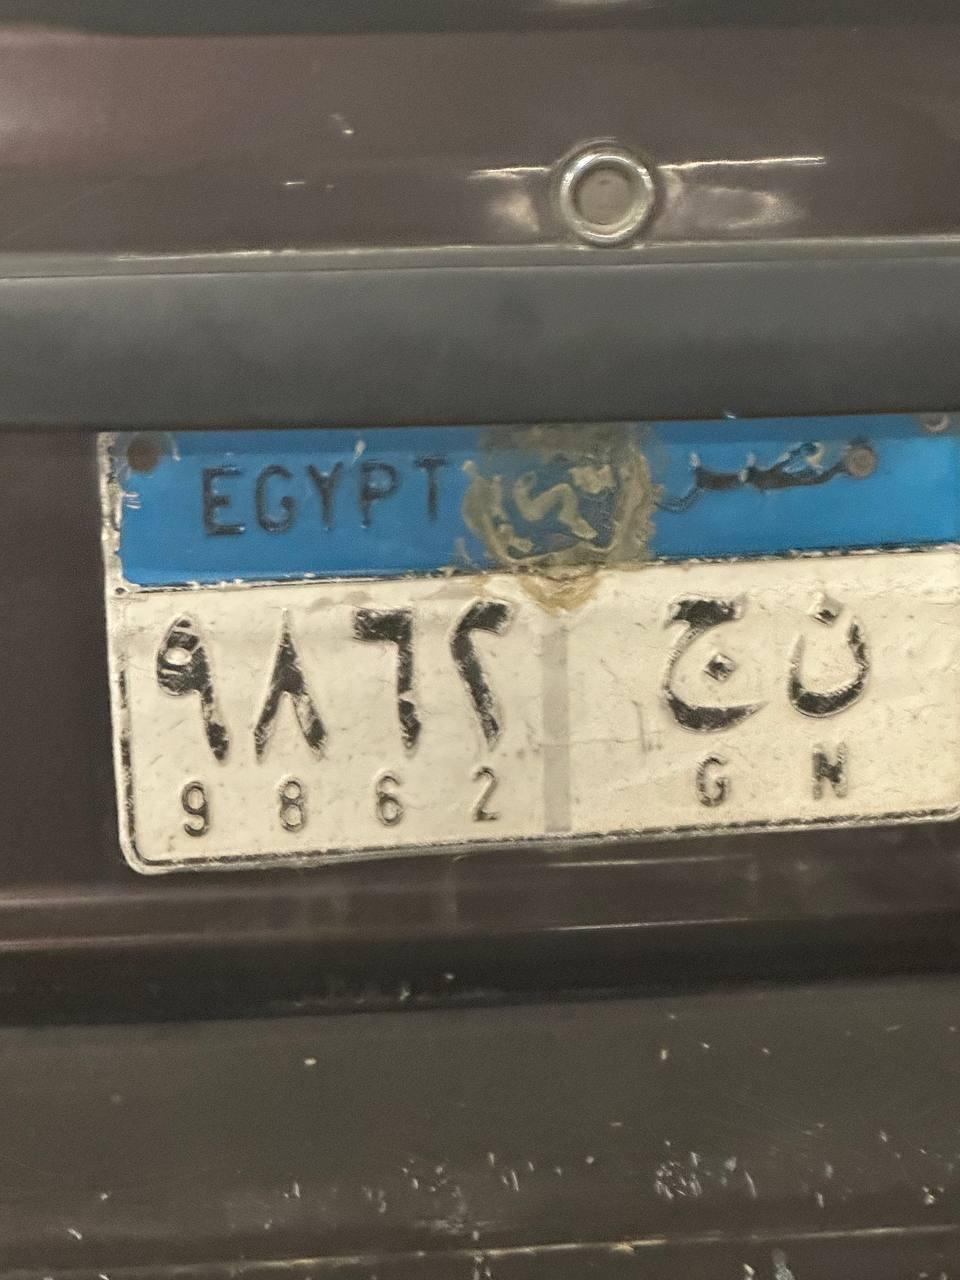2: (446, 600, 540, 742)
8: (243, 608, 345, 756), (346, 598, 424, 738)
9: (140, 590, 237, 770)
License Plate: (90, 408, 958, 882)
Noon: (781, 586, 880, 720)
geem: (650, 588, 762, 734)
